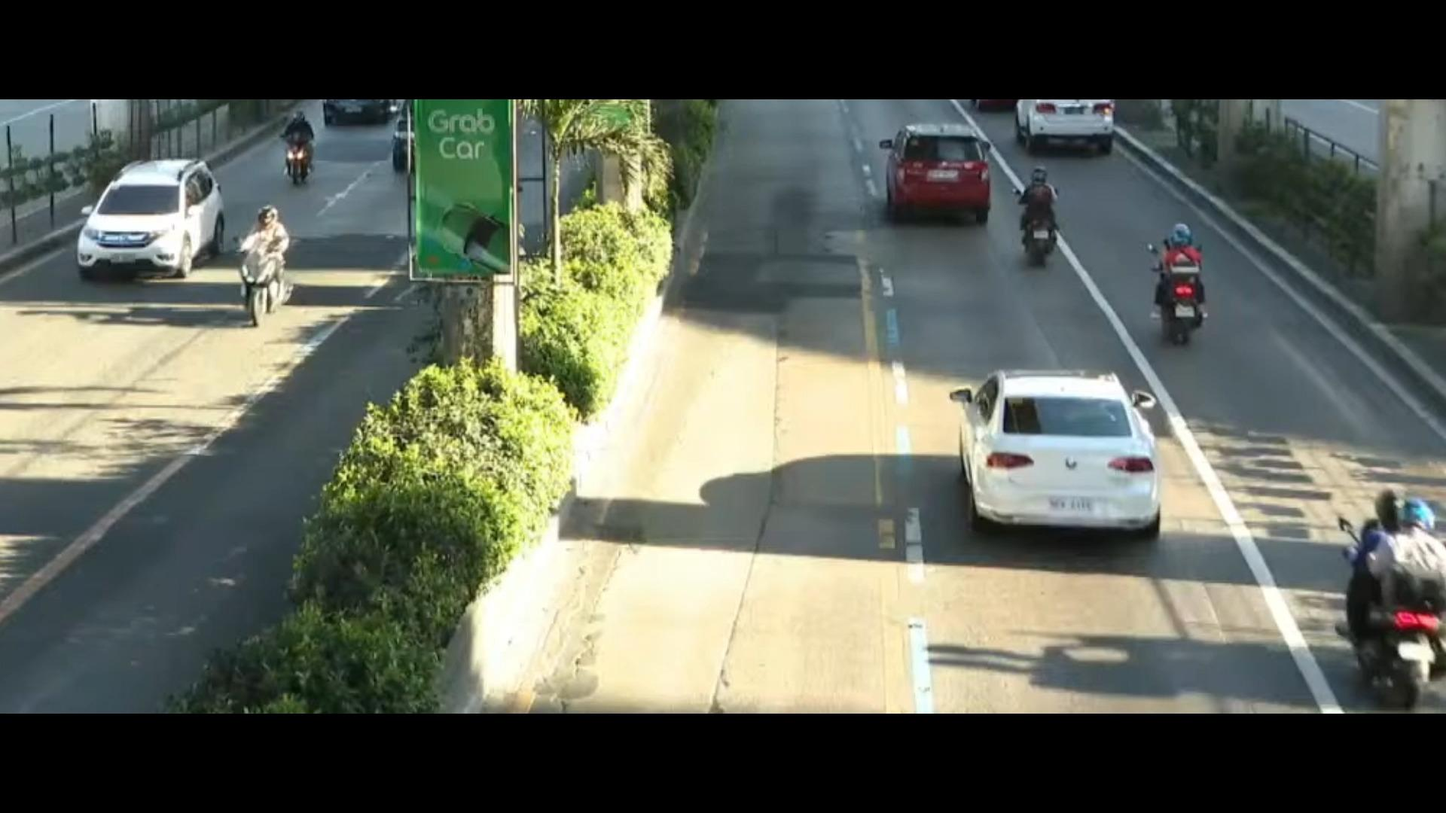Motorcycle: (1315, 473, 1446, 688), (1137, 209, 1243, 346), (233, 209, 308, 328), (1007, 155, 1066, 273), (271, 106, 320, 200)
SUV: (48, 149, 230, 324), (875, 116, 1001, 240)
Sedan: (893, 333, 1170, 560)
